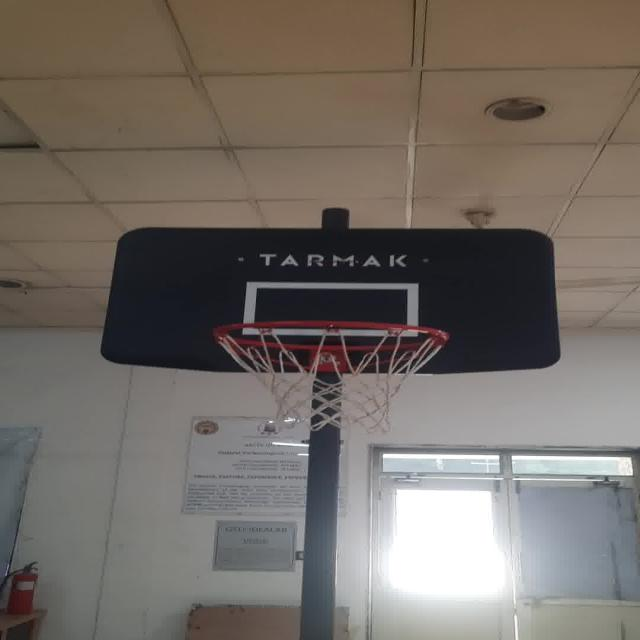objects: (184, 317, 455, 436), (243, 280, 419, 334)
